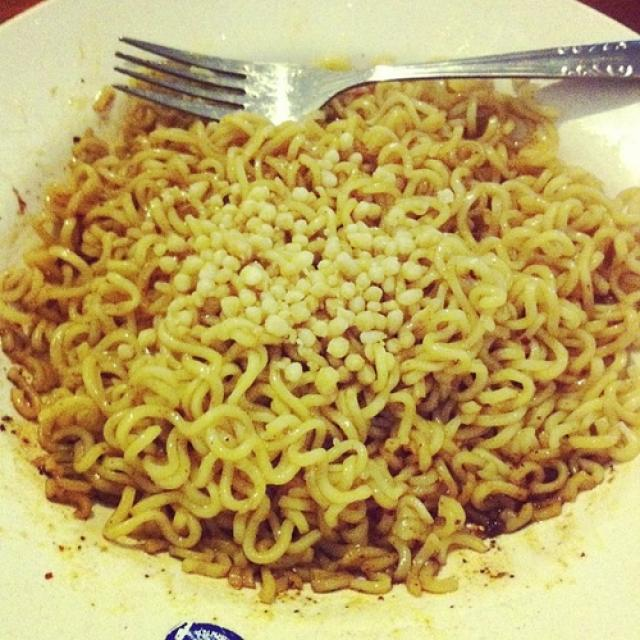面条主食: (15, 32, 631, 613)
